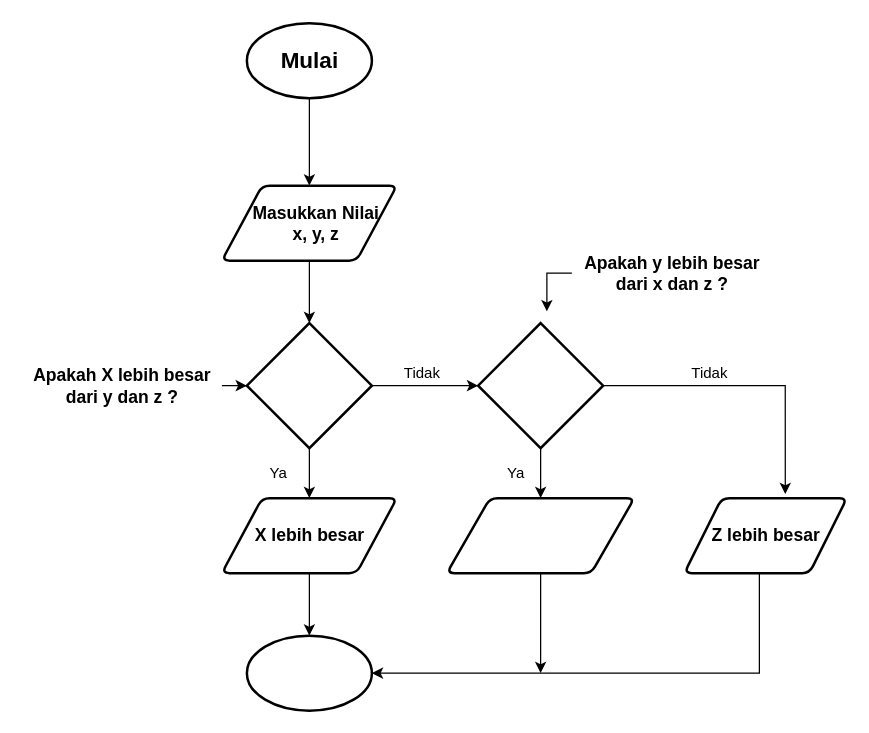
Some shapes in this 869 by 733 pixel diagram are drawn without their labels. The centre of each missing label's shape, as x and y in pixels:
Selasai: pixel 308 672
Y lebih besar: pixel 540 535
